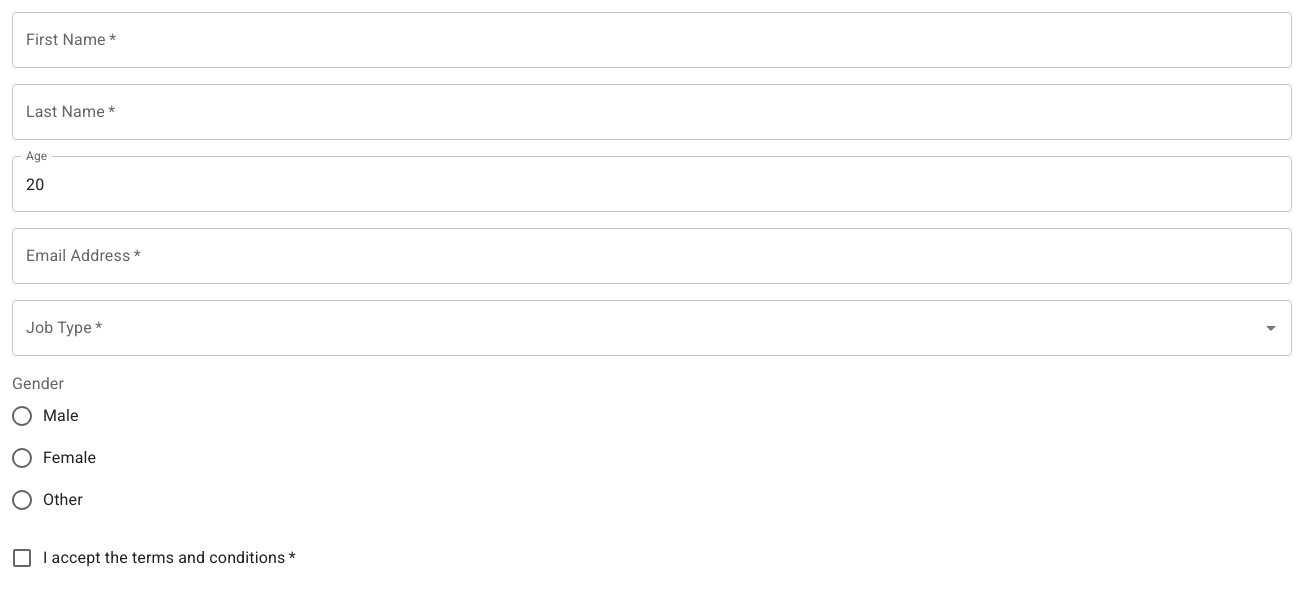
SignUpForm › validates form text fields › First Name › is over limit of characters
Note: Fill in invalid values
Step 1. Type "John567890123456" into the field labelled "First Name" → (652, 40), box [12,12,1292,68]
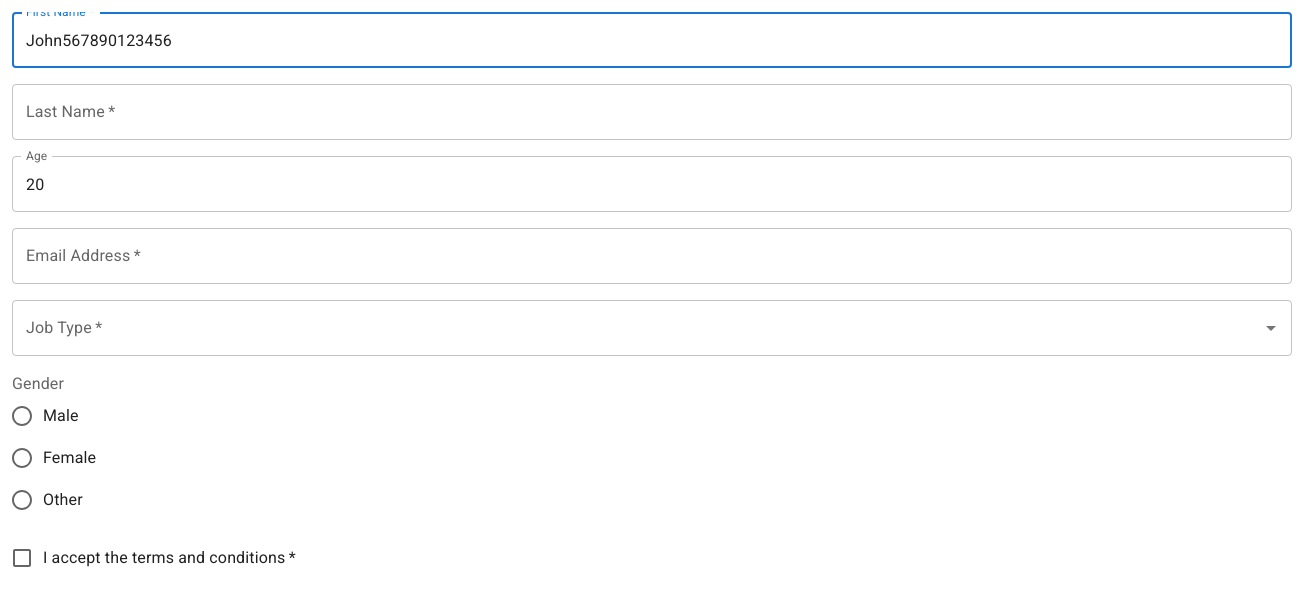
Step 2. Press Tab
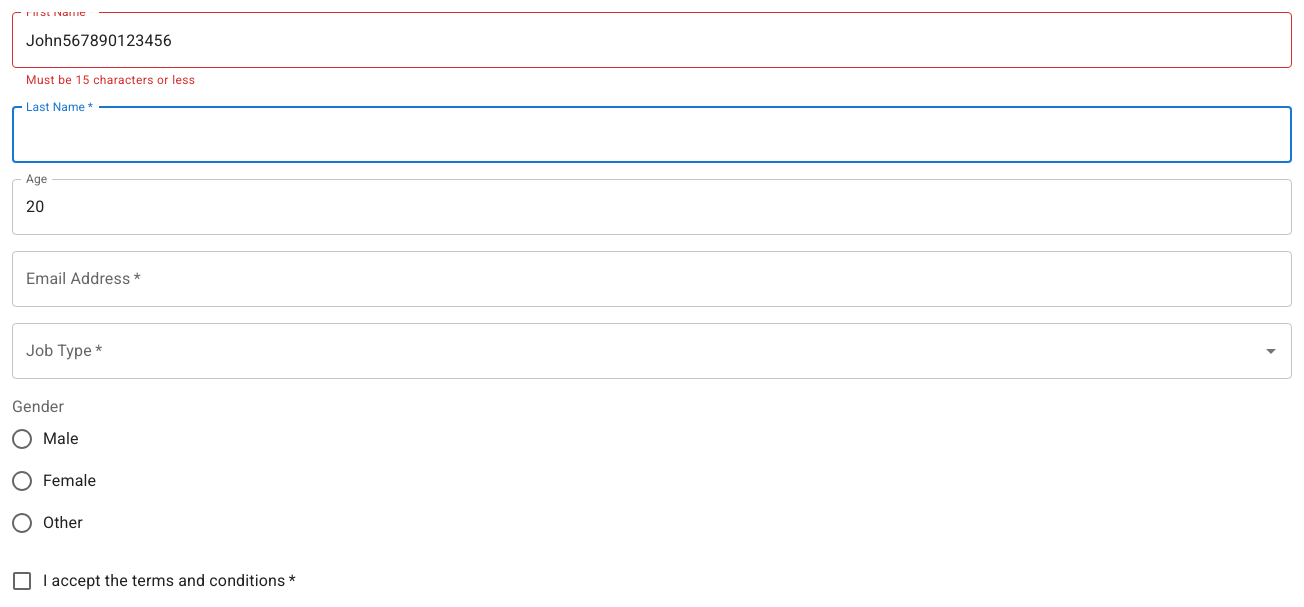
Check: the text "Must be 15 characters or less" is shown, box [26,73,196,87]
